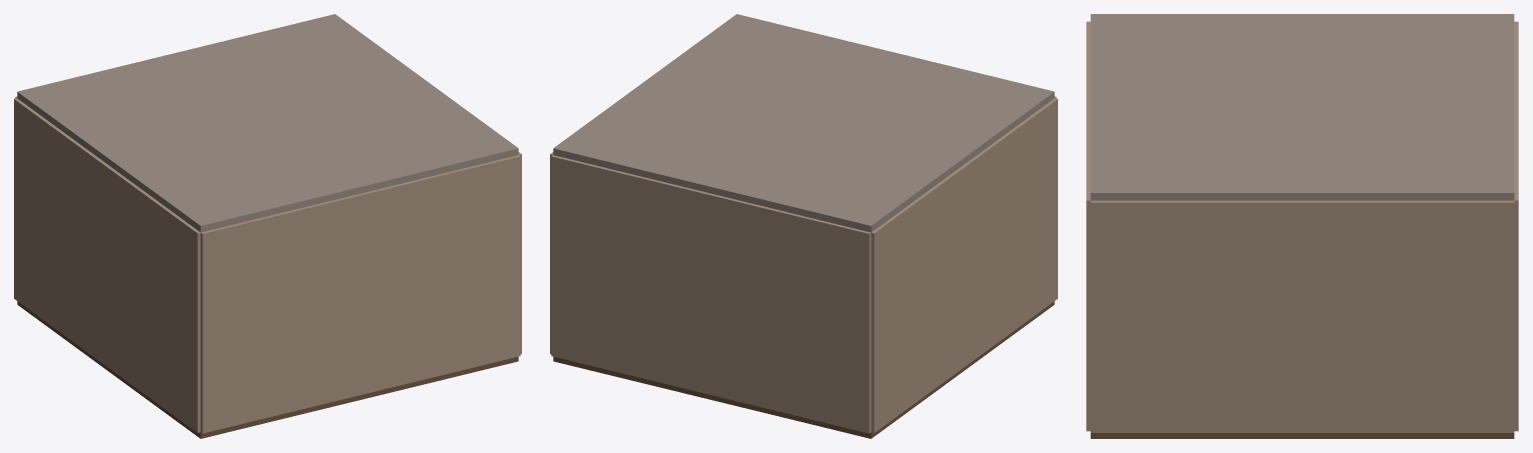
File: environment.glb
The picture shows the model from 3 angles, left to right: view 1: azimuth 30°, elevation 25°; view 2: azimuth 150°, elevation 25°; view 3: azimuth 270°, elevation 25°; orthographic projection. The views are drawn at different scales.
Parts seen in each view (by area): view 1: Wall_S, Ceiling, Wall_W, Floor; view 2: Wall_N, Ceiling, Wall_W, Floor; view 3: Wall_E, Ceiling, Floor, Wall_N, Wall_S.
Boxes of the visible parts, x1,y1,x2,y2 form: Wall_S: (200,155,520,433); Ceiling: (17,14,518,232); Wall_W: (14,98,200,432); Floor: (17,301,518,438); Wall_N: (551,155,871,433); Ceiling: (553,14,1054,232); Wall_W: (871,98,1057,432); Floor: (553,301,1054,438); Wall_E: (1090,200,1514,432); Ceiling: (1090,14,1514,200); Floor: (1090,433,1514,438); Wall_N: (1514,21,1518,431); Wall_S: (1086,21,1090,431).
Bounding box in the file's own units: 5.1 × 3.2 × 5.1.
